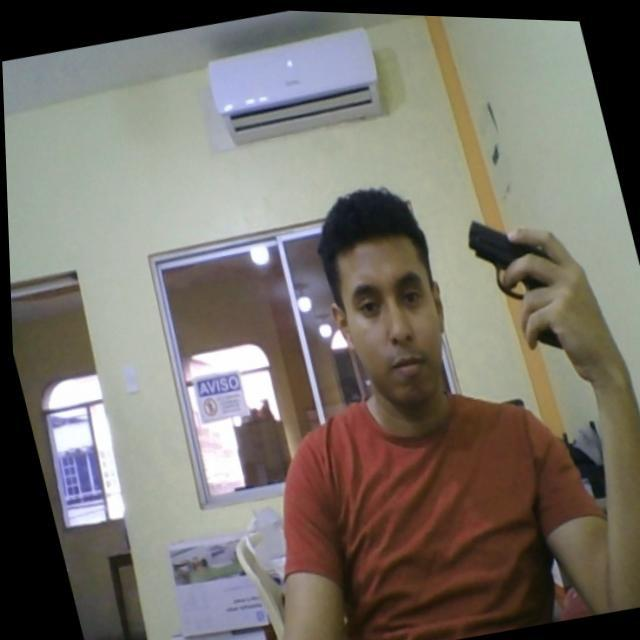weapon: (458, 199, 571, 360)
